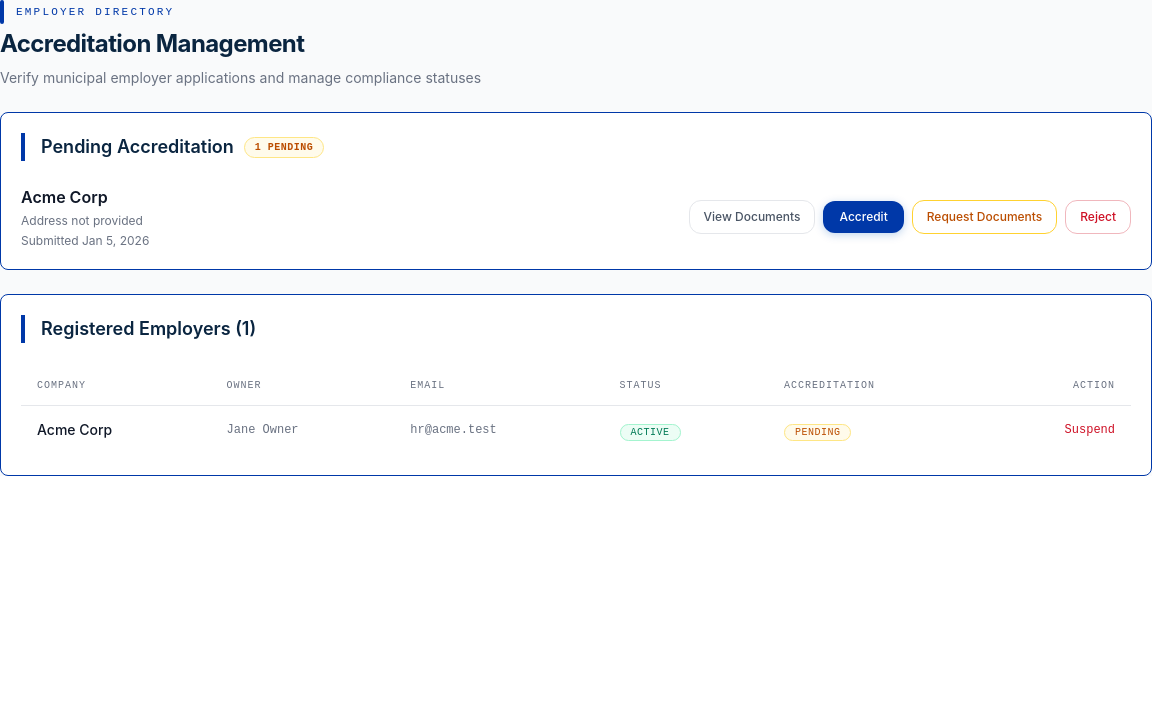
it: Accreditation mutation error handling (S4) › surfaces an error inside the documents modal when a status change fails
The width and height of the screenshot is (1152, 720).
Click the button "View Documents" at (752, 217), box [688,200,816,234]
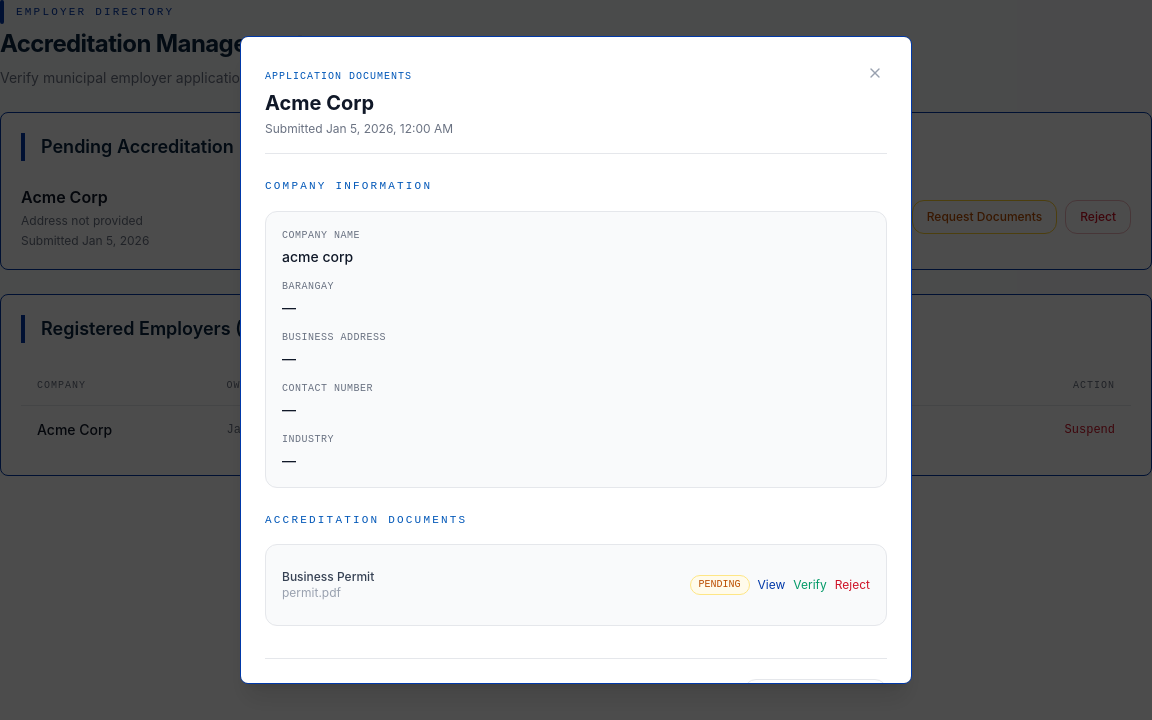
Click the button "Verify" at (810, 585), box [793,577,827,593]
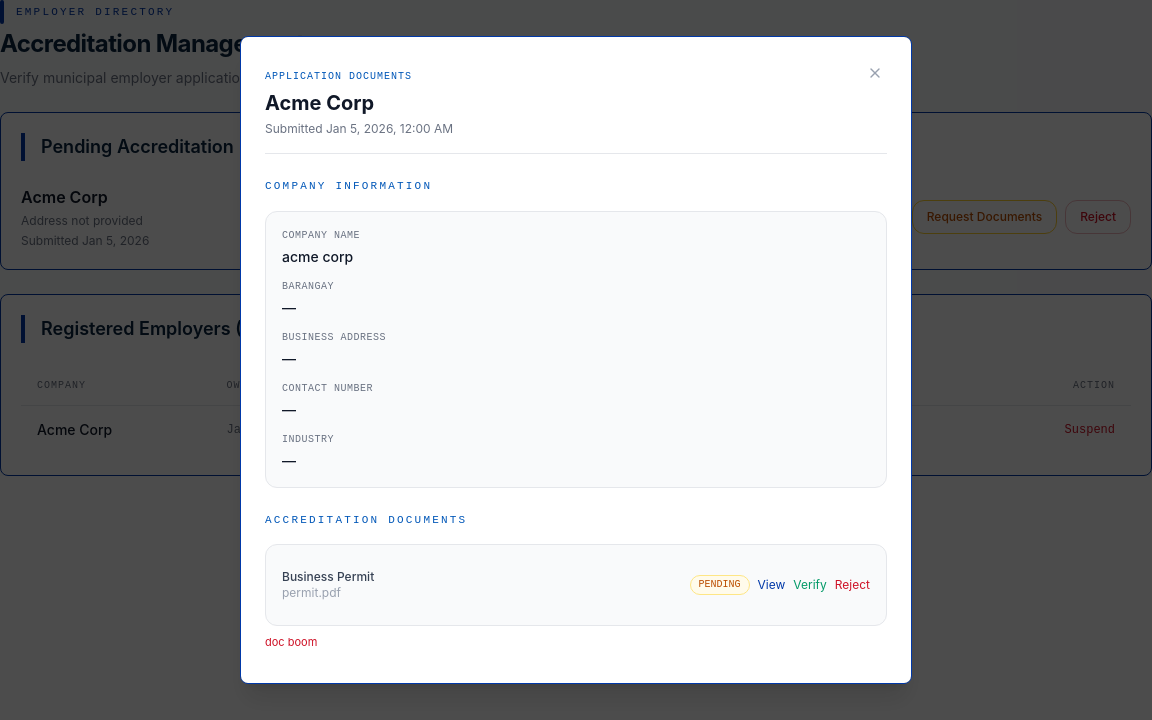
expect the message reads "doc boom": met, box [265,635,317,649]
